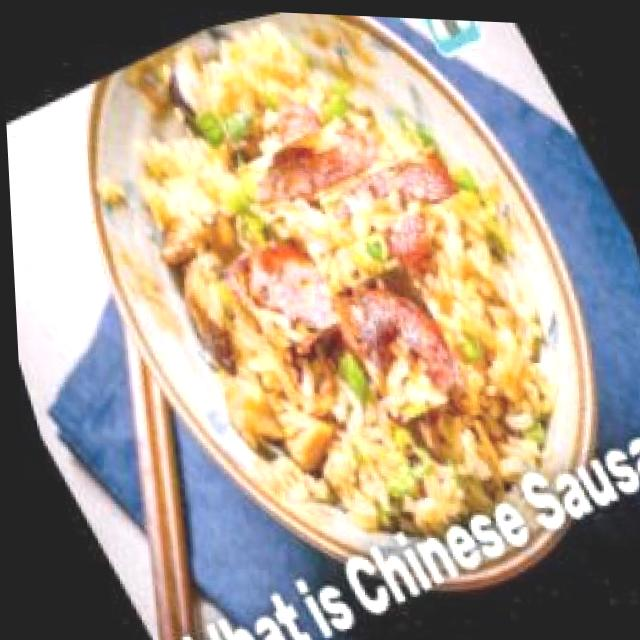chinese_sausage: (318, 249, 478, 434), (236, 81, 397, 242), (316, 121, 460, 264), (219, 220, 349, 358)
